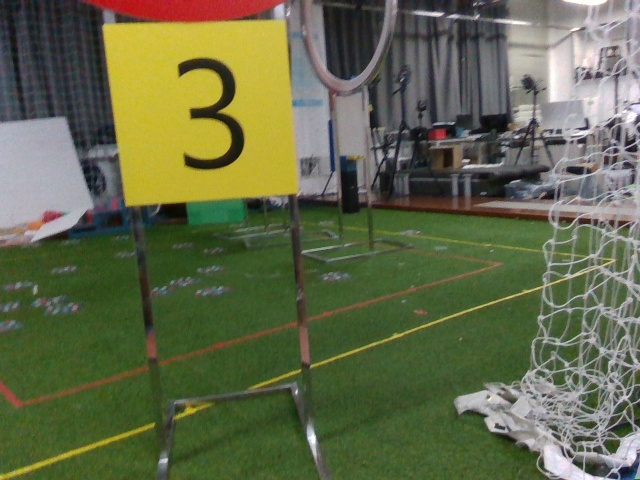target: (112, 21, 290, 198)
